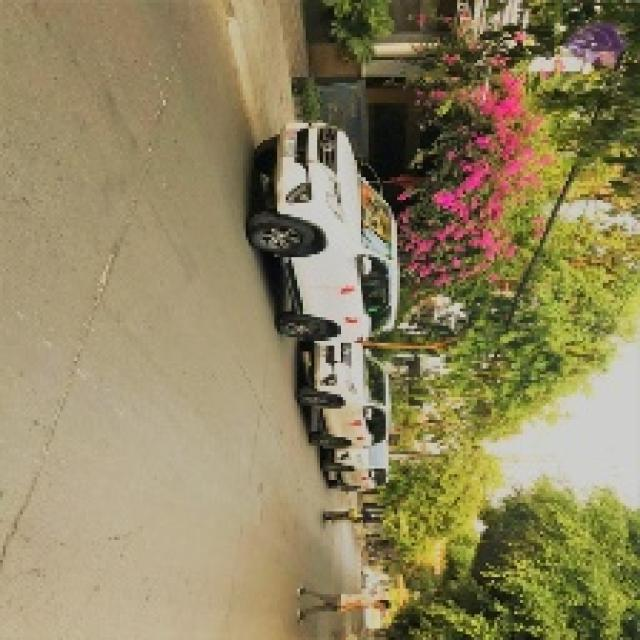car: (263, 119, 408, 333), (303, 341, 398, 452), (311, 443, 401, 498)
